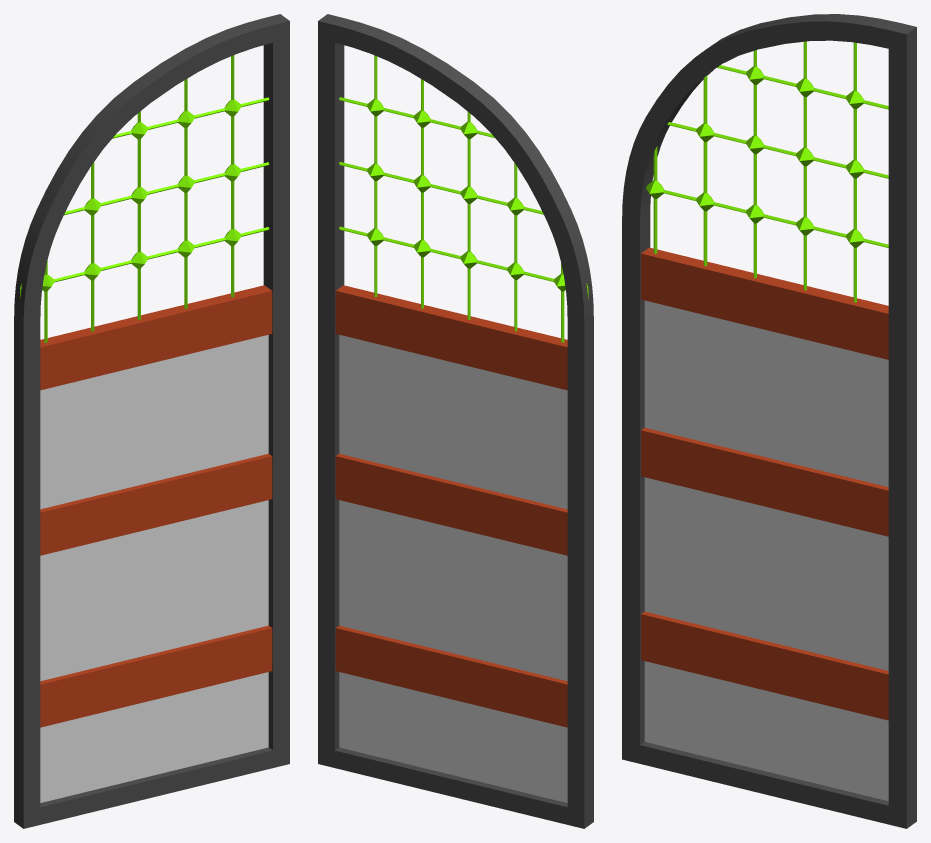
File: kemer_kapi.FBX
The picture shows the model from 3 angles, left to right: view 1: azimuth 30°, elevation 25°; view 2: azimuth 150°, elevation 25°; view 3: azimuth 330°, elevation 25°; orthographic projection. The views are drawn at different scales.
Visible parts, largest first — view 1: Line001, Plane001; view 2: Line001, Plane001; view 3: Line001, Plane001.
Part boxes in pixels (x1=…): Line001: x1=14, y1=14, x2=289, y2=828; Plane001: x1=20, y1=55, x2=269, y2=342; Line001: x1=318, y1=14, x2=593, y2=828; Plane001: x1=339, y1=55, x2=588, y2=342; Line001: x1=622, y1=14, x2=916, y2=828; Plane001: x1=646, y1=41, x2=888, y2=302.
Bounding box in the file's own units: 82.63 × 220 × 6.
